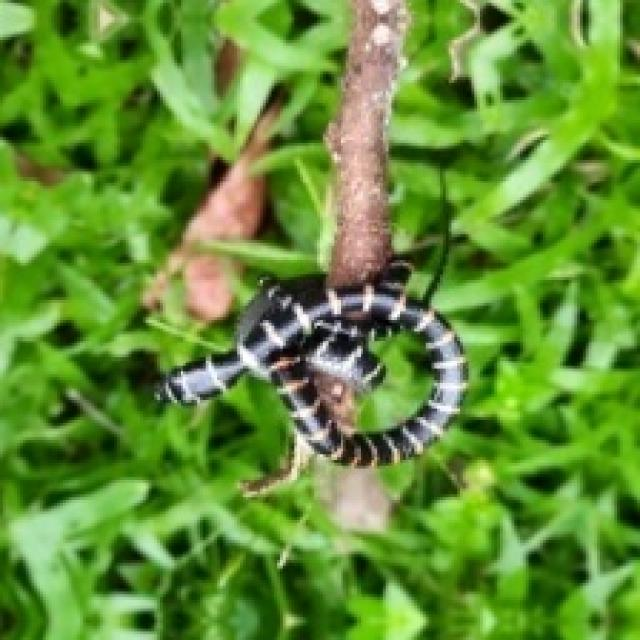paradise tree snake: (157, 260, 463, 491)
